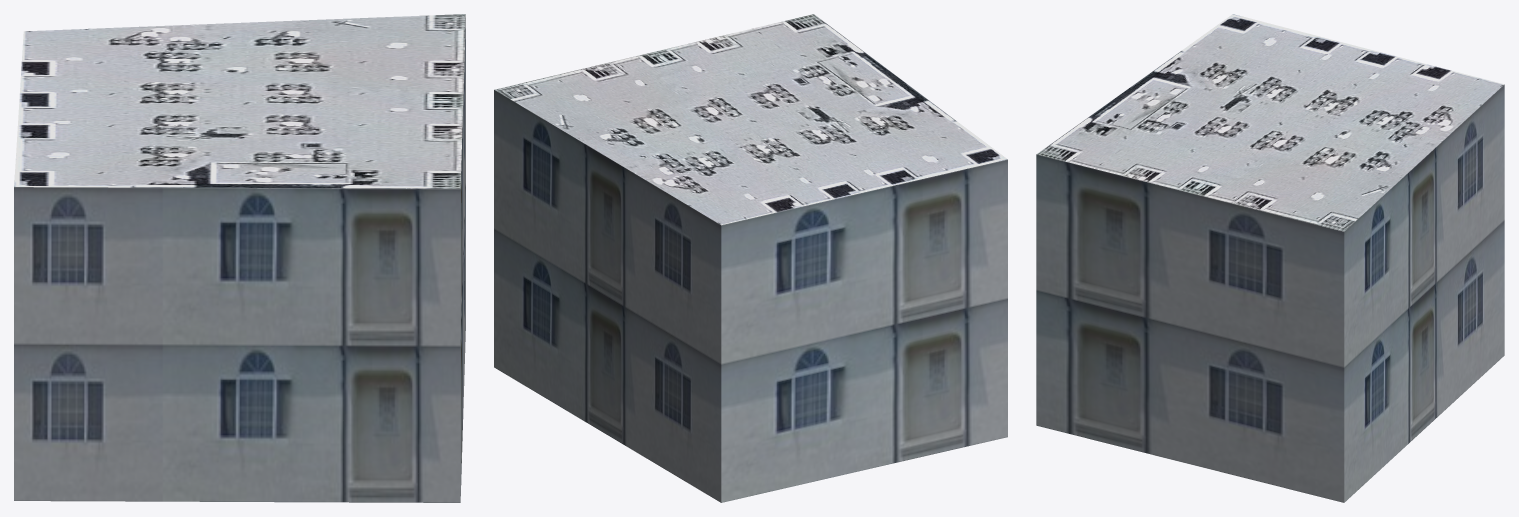
The model's file is ResTex__3651.fbx.
3 views of the same model, side by side, from view 1: azimuth 30°, elevation 25°; view 2: azimuth 150°, elevation 25°; view 3: azimuth 270°, elevation 25° (orthographic). The views are drawn at different scales.
Visible parts, largest first — view 1: CityEngineMaterial_17_m, CityEngineMaterial_8_m; view 2: CityEngineMaterial_17_m, CityEngineMaterial_8_m; view 3: CityEngineMaterial_17_m, CityEngineMaterial_8_m.
Part boxes in pixels (box(x1,y1,x2,y2)): CityEngineMaterial_17_m: box(14, 17, 465, 502); CityEngineMaterial_8_m: box(14, 14, 465, 188); CityEngineMaterial_17_m: box(494, 90, 1007, 502); CityEngineMaterial_8_m: box(494, 14, 1007, 225); CityEngineMaterial_17_m: box(1036, 84, 1504, 502); CityEngineMaterial_8_m: box(1037, 14, 1503, 231).
Bounding box in the file's own units: 10.33 × 6 × 9.38.
Materials: 2 (2 with a texture image).
